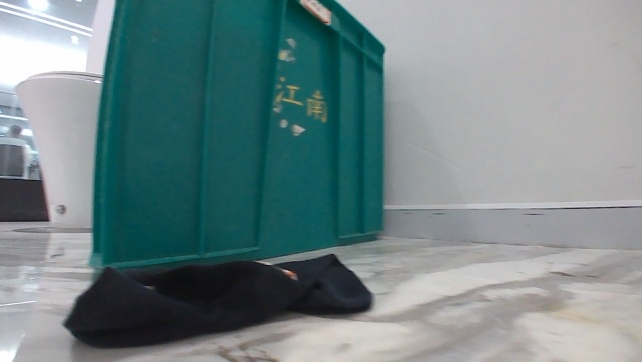socks: (56, 250, 386, 352)
toilet: (13, 65, 107, 230)
